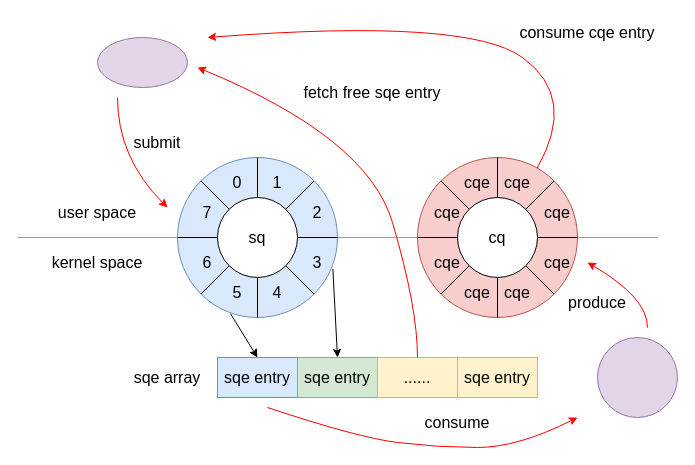
The diagram is 695 pixels wide and 465 high, and some of its shapes have lost their labels. Each missing label, with the centre of its shape:
kernel: [637,377]
user: [142,62]
